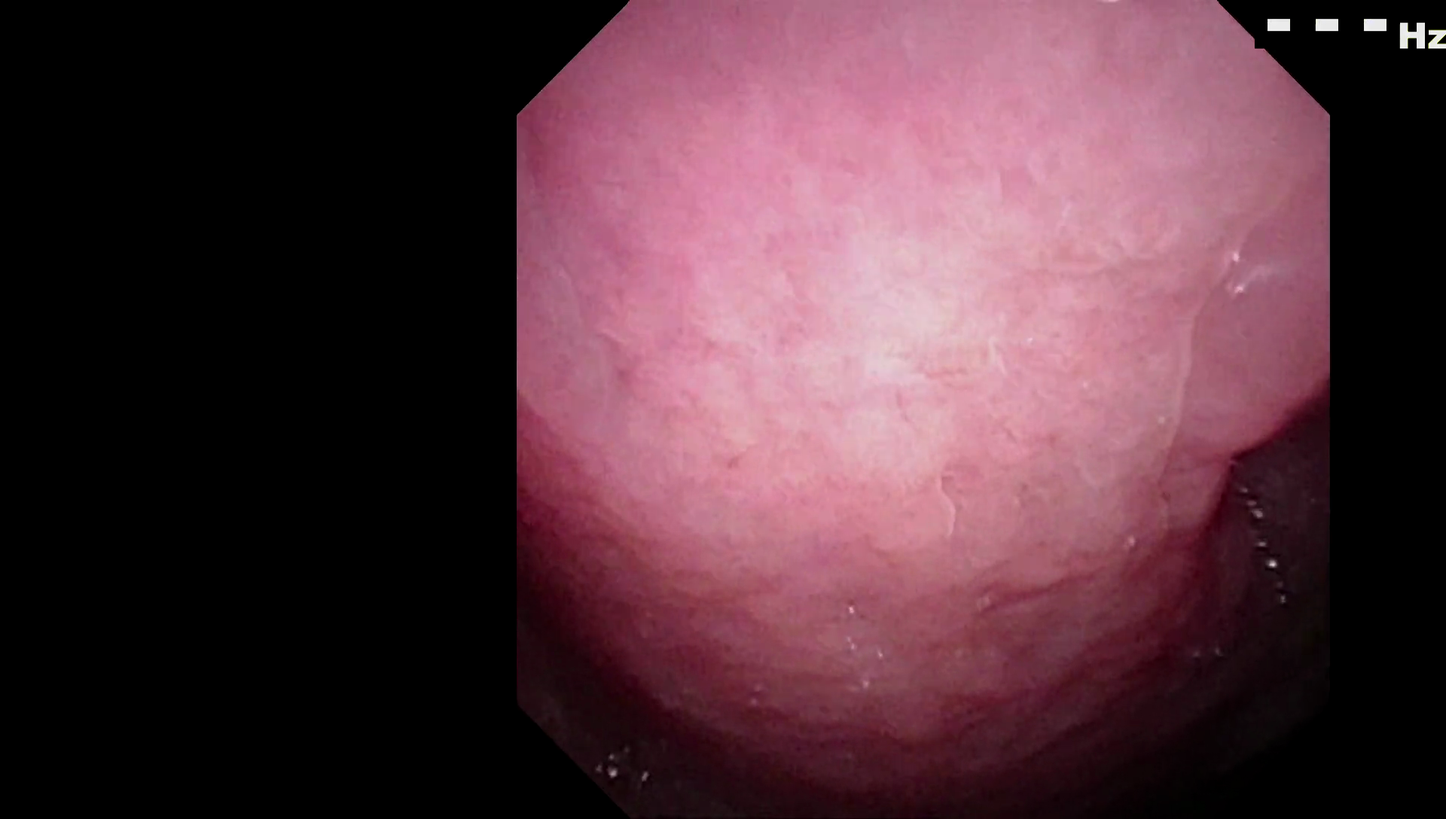close_wall: (557, 89, 1273, 626)
next: (529, 595, 751, 769), (1197, 437, 1326, 729), (983, 656, 1221, 791)
